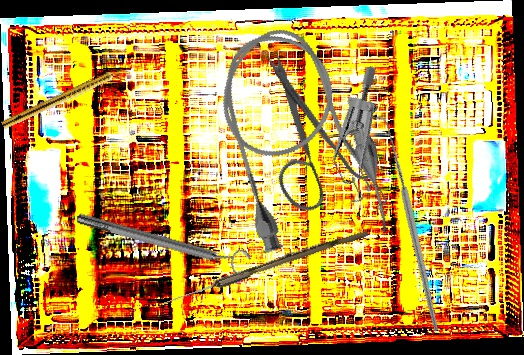Cannula: (197, 10, 403, 271)
Fixation Ring: (73, 203, 253, 279)
Handpiece: (0, 63, 130, 133)
Hook Surgical: (320, 115, 493, 333)
Iris Scissors: (213, 45, 403, 232)
Speculum: (300, 64, 433, 223)
Surgical Spoon: (161, 225, 369, 310)
